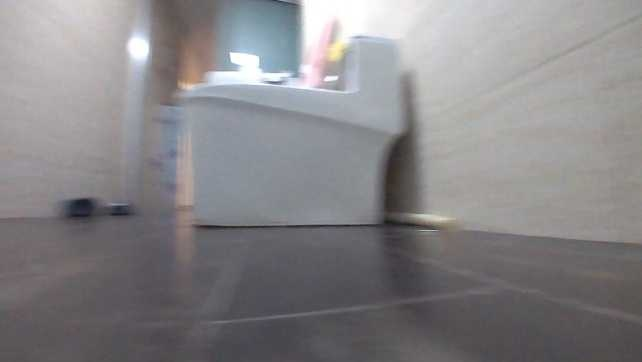toilet: (173, 33, 404, 227)
